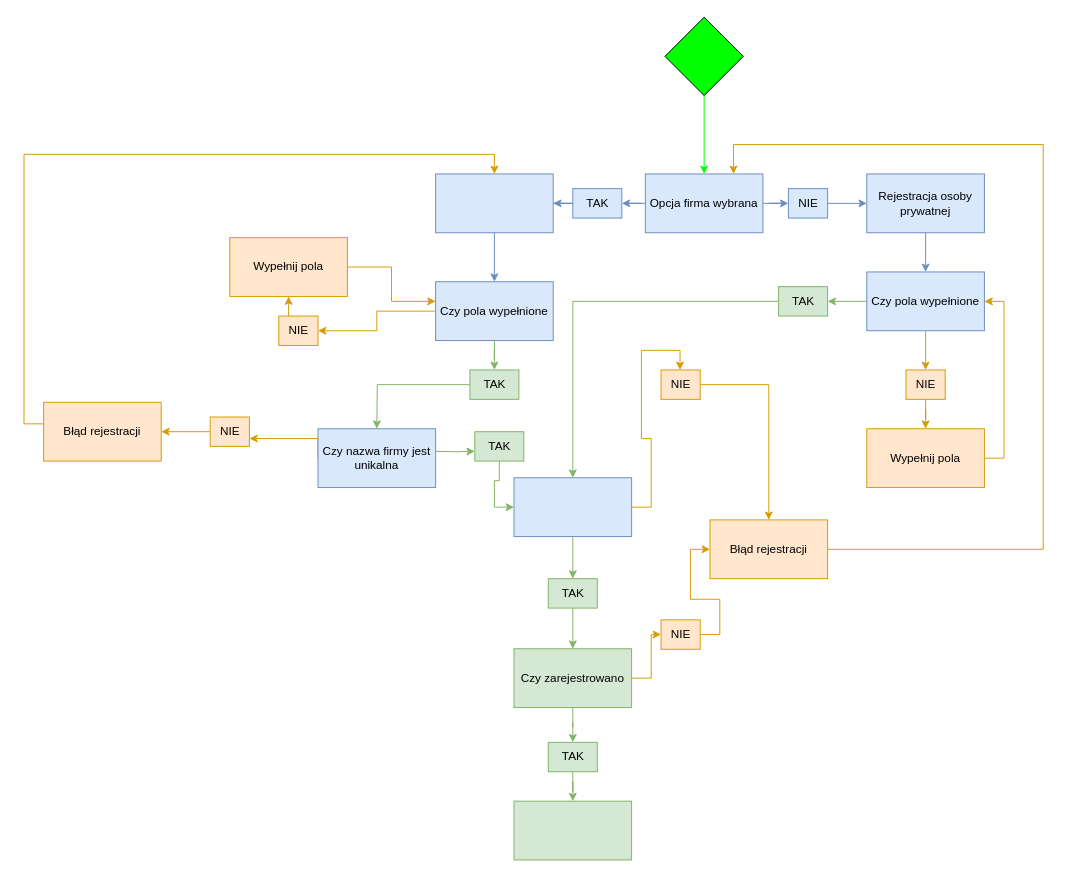
The diagram is 1068 pixels wide and 877 high, and some of its shapes have lost their labels. The centre of each missing label's shape, as x and y in pixels:
"Czy nick jest unikalny" goes at (x=572, y=507).
"Rejestracja firmy" goes at (x=494, y=203).
"Start" goes at (x=703, y=56).
"Strona Logowania" goes at (x=572, y=830).
